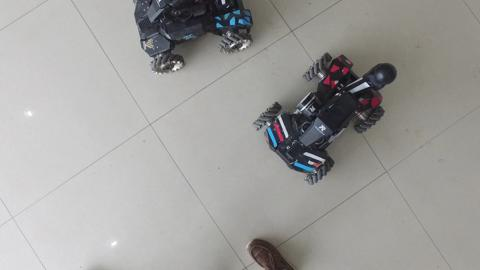chariot: (248, 49, 402, 188), (124, 1, 257, 82)
